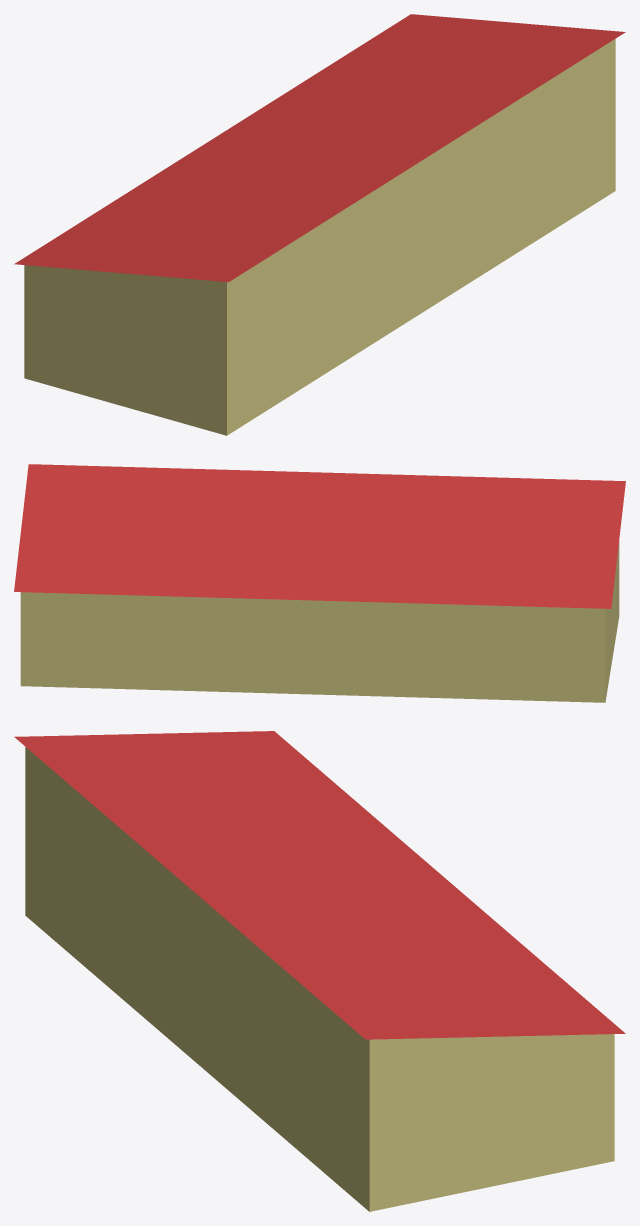
3 views of the same model, one above another, from view 1: azimuth 30°, elevation 25°; view 2: azimuth 150°, elevation 25°; view 3: azimuth 270°, elevation 25° (orthographic). The views are drawn at different scales.
Size of the model in its own units: 25.11 by 18.2 by 5.81.
